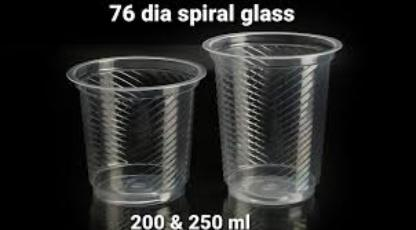Others: (204, 33, 342, 205), (67, 56, 205, 204)
